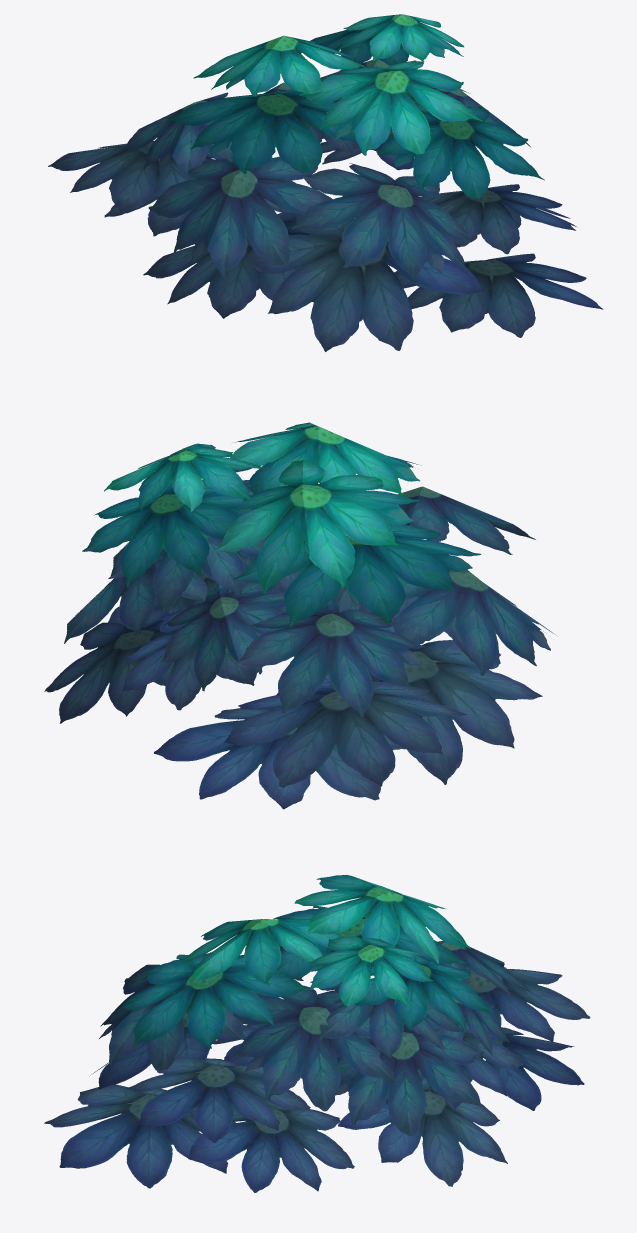
Rendered from map_111_shu_2.fbx.
3 renders of one model, top to bottom at view 1: azimuth 30°, elevation 25°; view 2: azimuth 150°, elevation 25°; view 3: azimuth 270°, elevation 25°, orthographic. The views are drawn at different scales.
Parts seen in each view (by area): view 1: map_111_shu_2; view 2: map_111_shu_2; view 3: map_111_shu_2.
Boxes of the visible parts, left/top/right/bottom form: map_111_shu_2: left=48, top=14, right=603, bottom=351; map_111_shu_2: left=44, top=422, right=556, bottom=809; map_111_shu_2: left=44, top=875, right=590, bottom=1192.
Size of the model in its own units: 1.25 by 0.6158 by 1.45.
